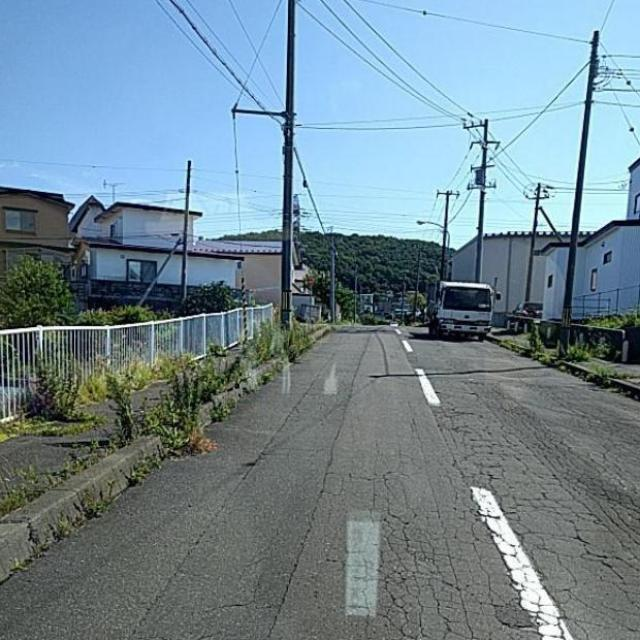Retak Buaya: (429, 372, 640, 601)
